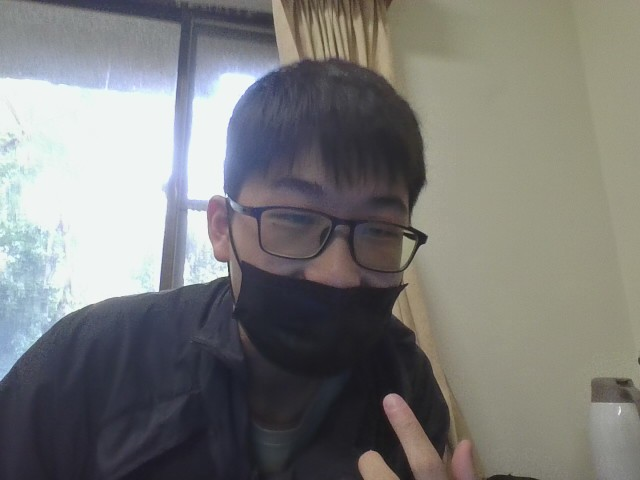No_Gloves: (346, 388, 513, 480)
No_Helmet: (214, 53, 429, 294)
person: (0, 42, 582, 479)
